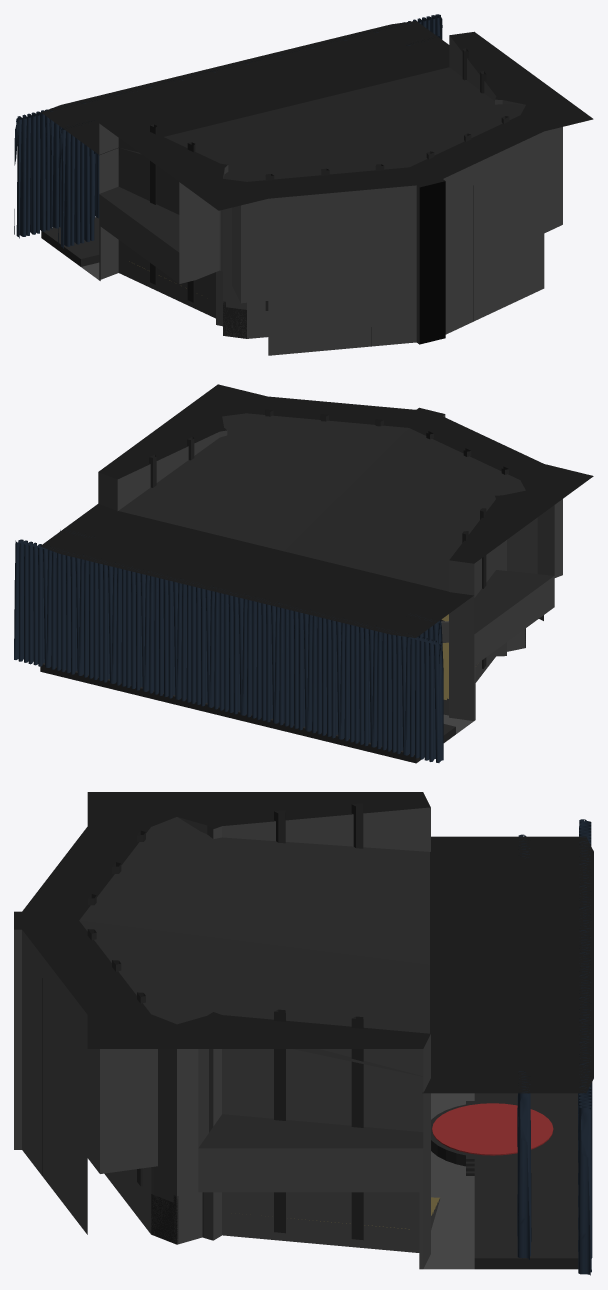
Rendered from Stage_Medium.fbx.
3 views of the same model, one above another, from view 1: azimuth 30°, elevation 25°; view 2: azimuth 150°, elevation 25°; view 3: azimuth 270°, elevation 25° (orthographic). The views are drawn at different scales.
Parts seen in each view (by area): view 1: Base, Curtains; view 2: Base, Curtains; view 3: Base, Curtains.
Part boxes in pixels (x1=…): Base: x1=41, y1=21, x2=593, y2=355; Curtains: x1=14, y1=14, x2=442, y2=248; Base: x1=40, y1=384, x2=593, y2=763; Curtains: x1=14, y1=529, x2=443, y2=762; Base: x1=14, y1=792, x2=593, y2=1269; Curtains: x1=517, y1=819, x2=592, y2=1275.
Size of the model in its own units: 5655 by 2082 by 4770.
